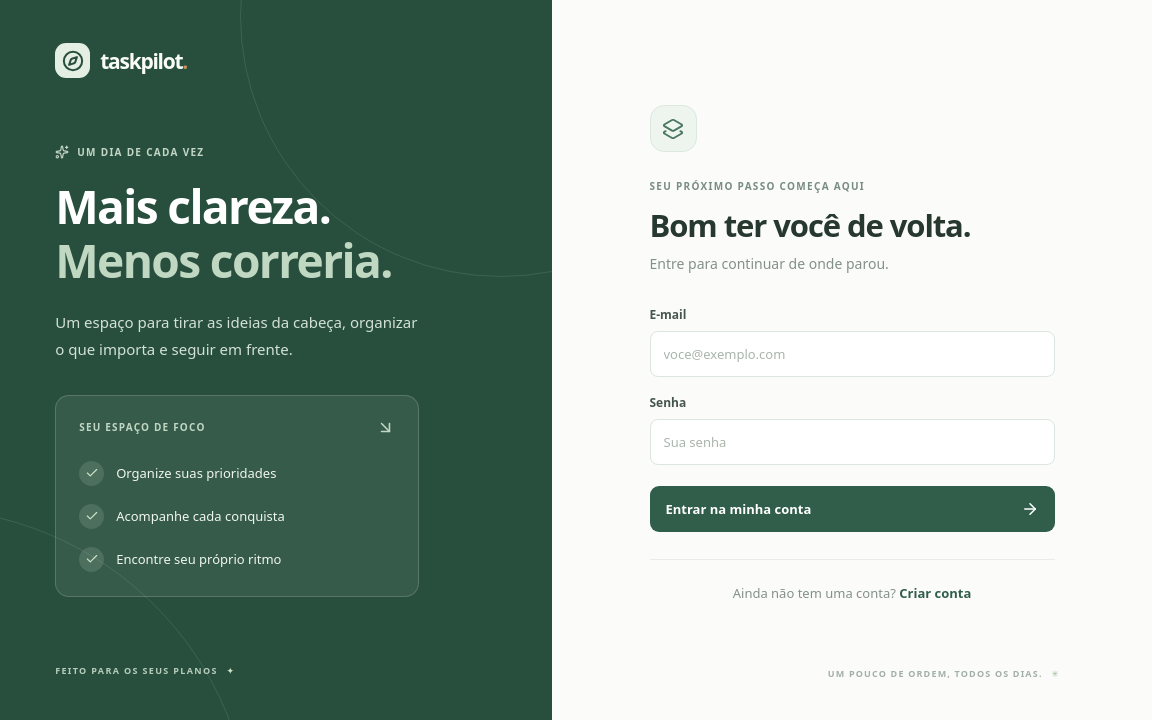
it: TaskPilot › não destaca prazo de hoje ou futuro como atrasado
This screenshot has width=1152, height=720.
Type "person@example.test" into the field labelled "E-mail" at coordinates (852, 354), box [650, 331, 1054, 377]
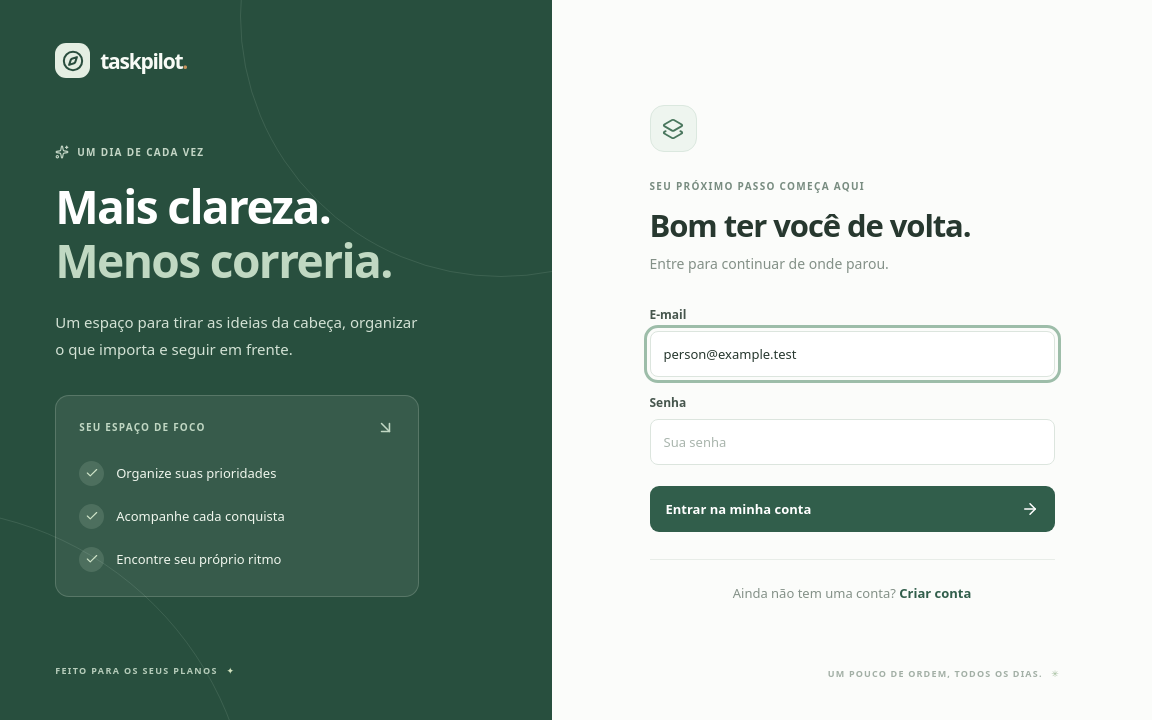
Type "TestPassword_12345" into the password field labelled "Senha" at coordinates (852, 442), box [650, 419, 1054, 465]
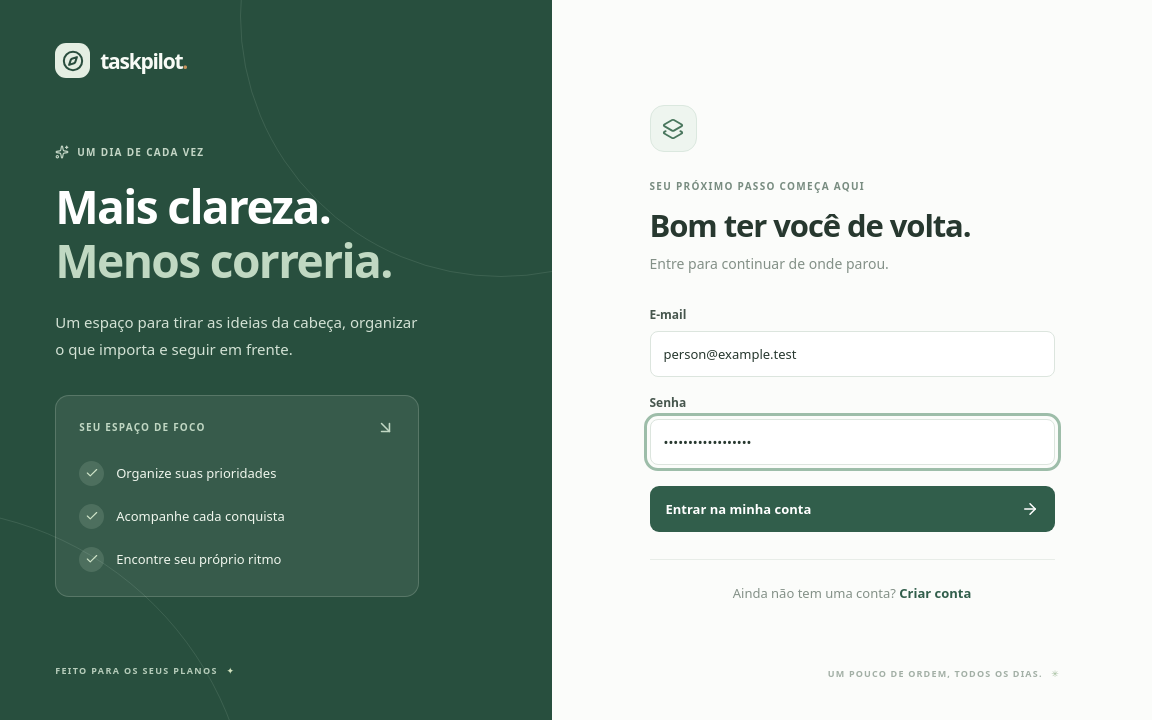
Click the button "Entrar na minha conta" at coordinates (738, 509), box [650, 486, 1054, 532]
(page scrolled)
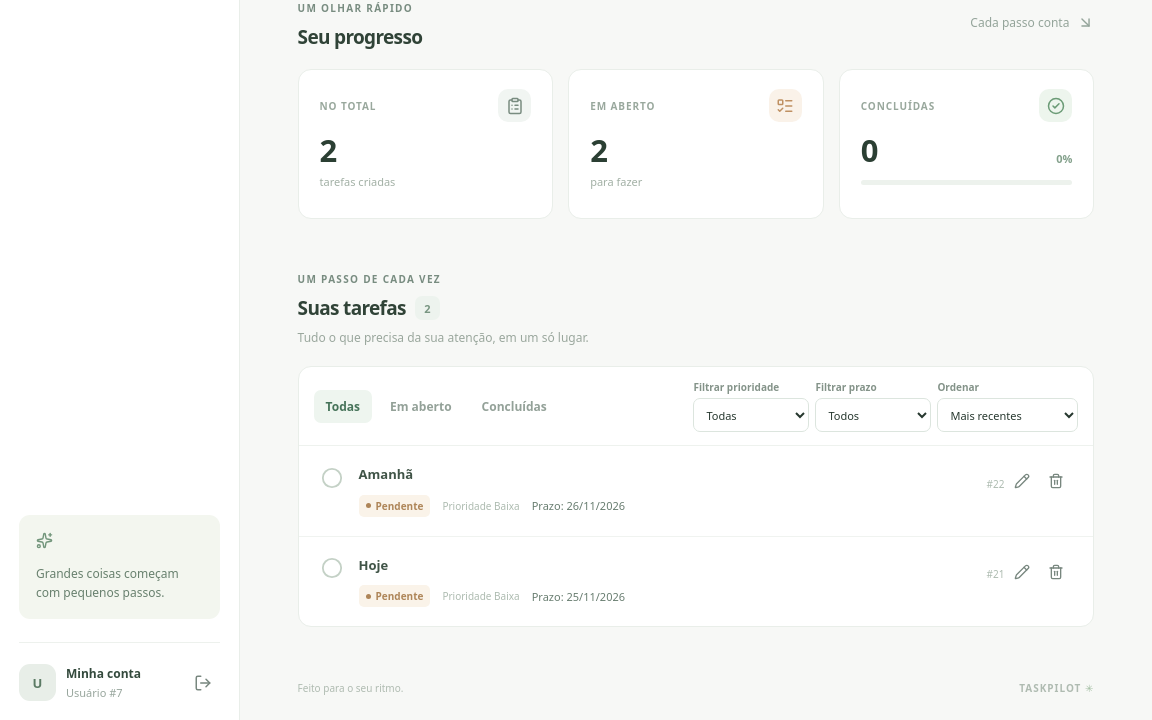
Expected: the heading "Hoje" is shown, [359, 556, 388, 574]
Expected: the number of list items is 2, [299, 446, 1093, 537]; [320, 556, 1072, 608]
